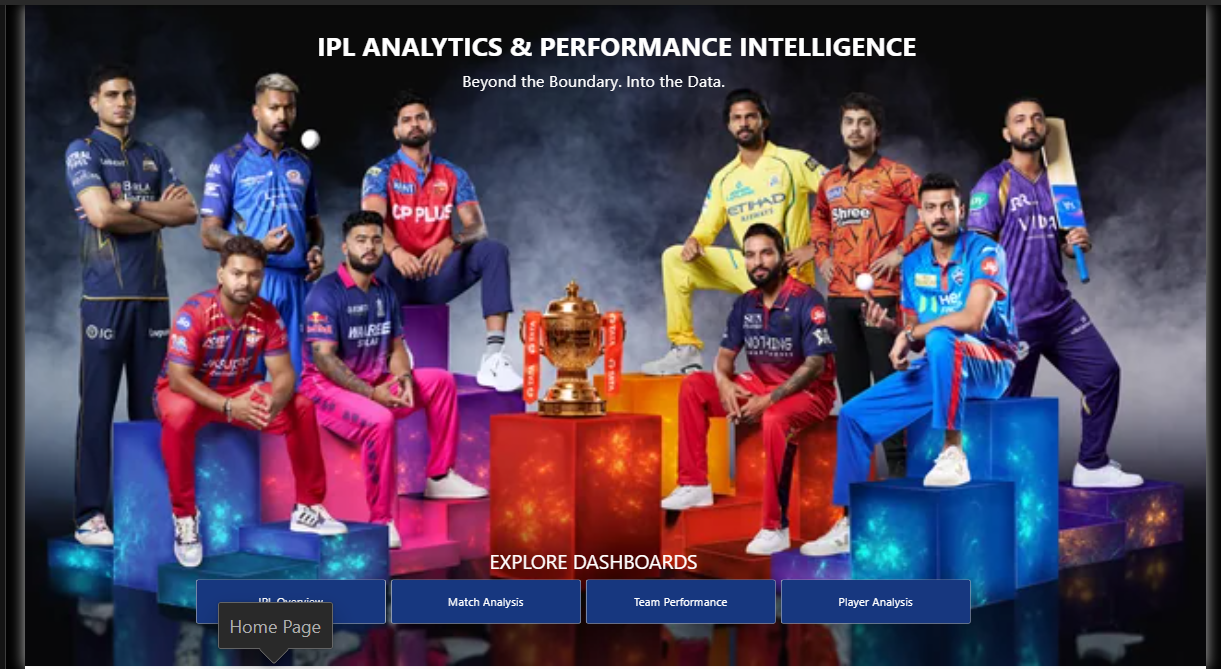

The page's visual inventory and layout, read from the dashboard file:
{"tool":"powerbi","page":{"name":"Home Page","canvas":[1920,1080],"ordinal":0},"visuals":[{"type":"textbox","box":[0,0,1890,122.5],"z":0},{"type":"textbox","box":[65,105,1717.5,40],"z":1000},{"type":"textbox","box":[10,882.5,1830,52.5],"z":2000},{"type":"pageNavigator","box":[277.5,935,1260,72.5],"z":3000}]}

Visuals, with their boxes in screenshot pixels (x1, y1, x2, y2), scaled from the page's 1920x1080 canvas onto the 1221x669 screenshot:
textbox: 0 0 1202 76
textbox: 41 65 1134 90
textbox: 6 547 1170 579
pageNavigator: 176 579 978 624
